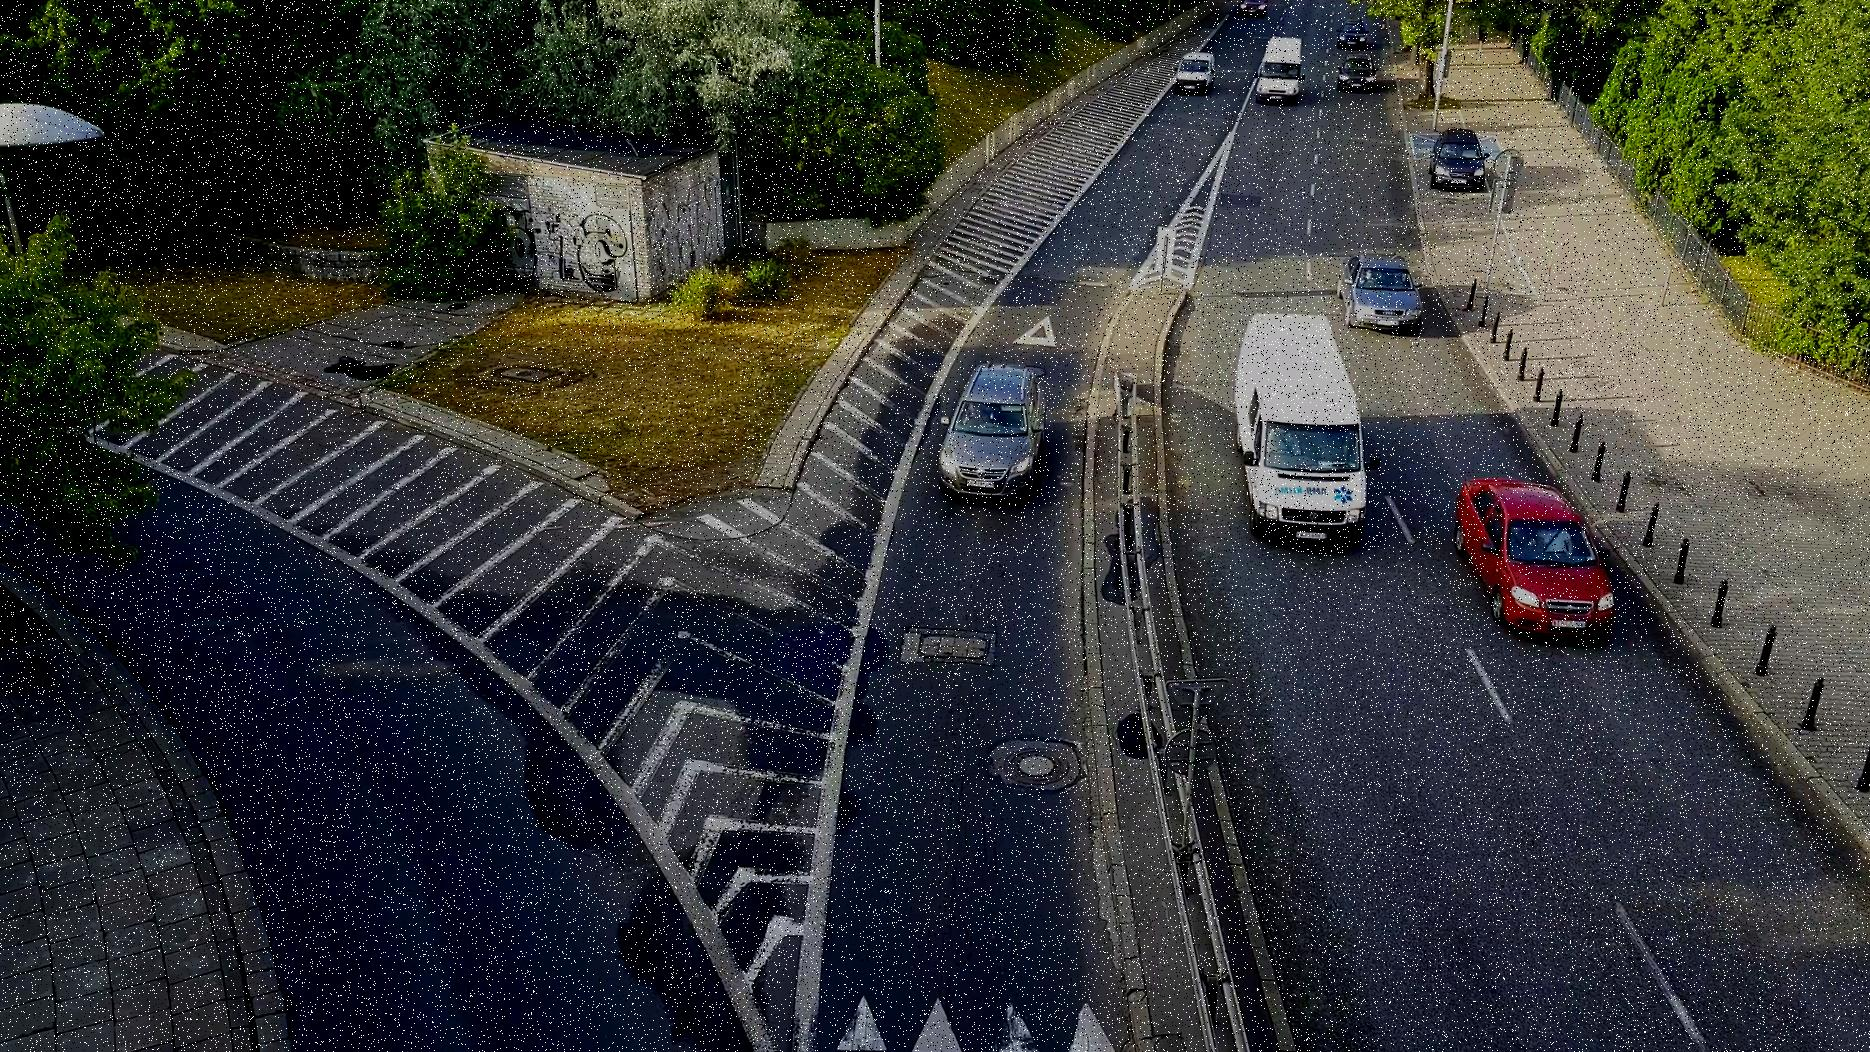car: (1232, 303, 1381, 551), (1440, 460, 1623, 646), (927, 364, 1054, 504), (1336, 245, 1424, 330), (1247, 33, 1309, 108), (1420, 128, 1492, 189), (1171, 50, 1219, 96), (1334, 51, 1378, 96), (1332, 18, 1372, 50), (1237, 0, 1269, 17)
